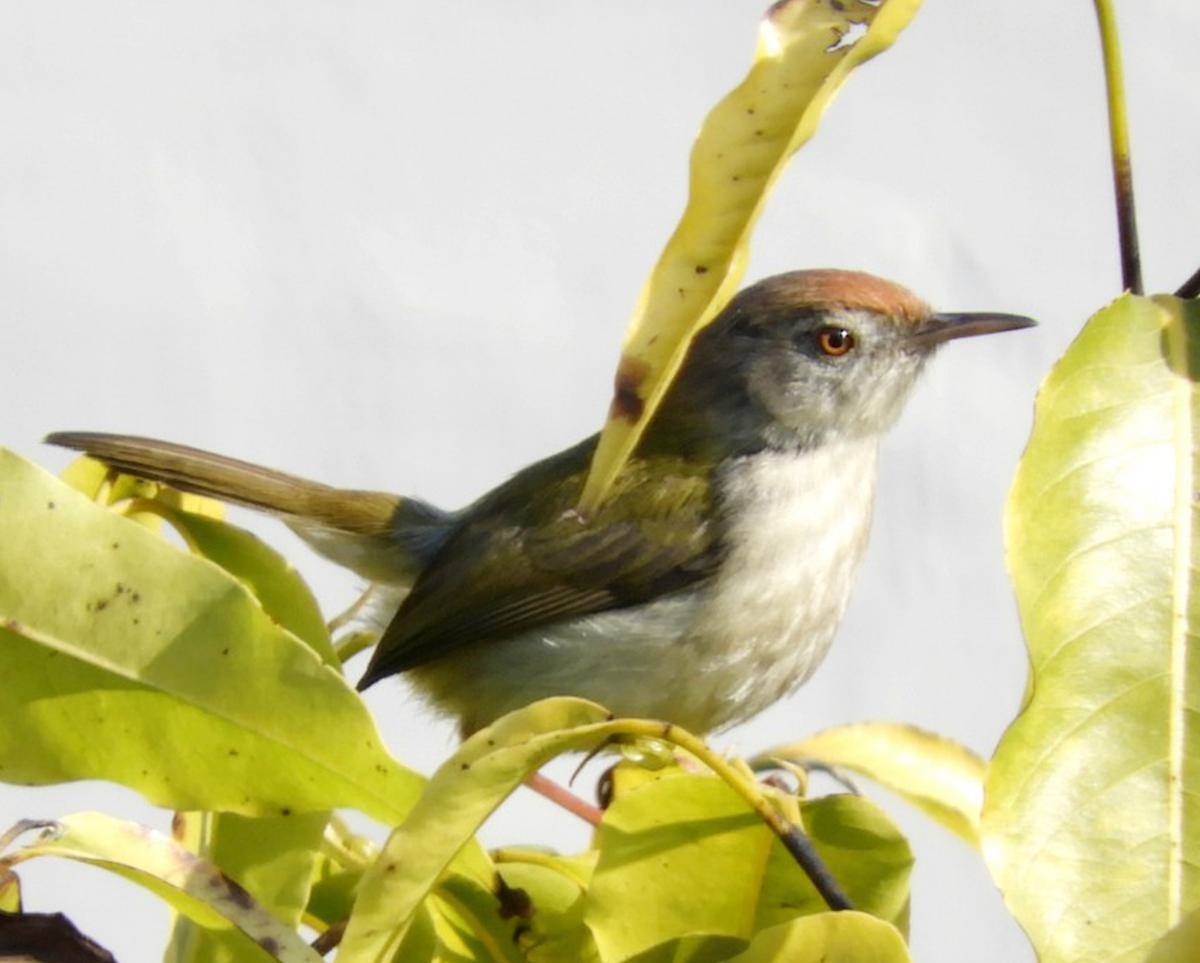tailorbird: (47, 254, 1032, 771)
